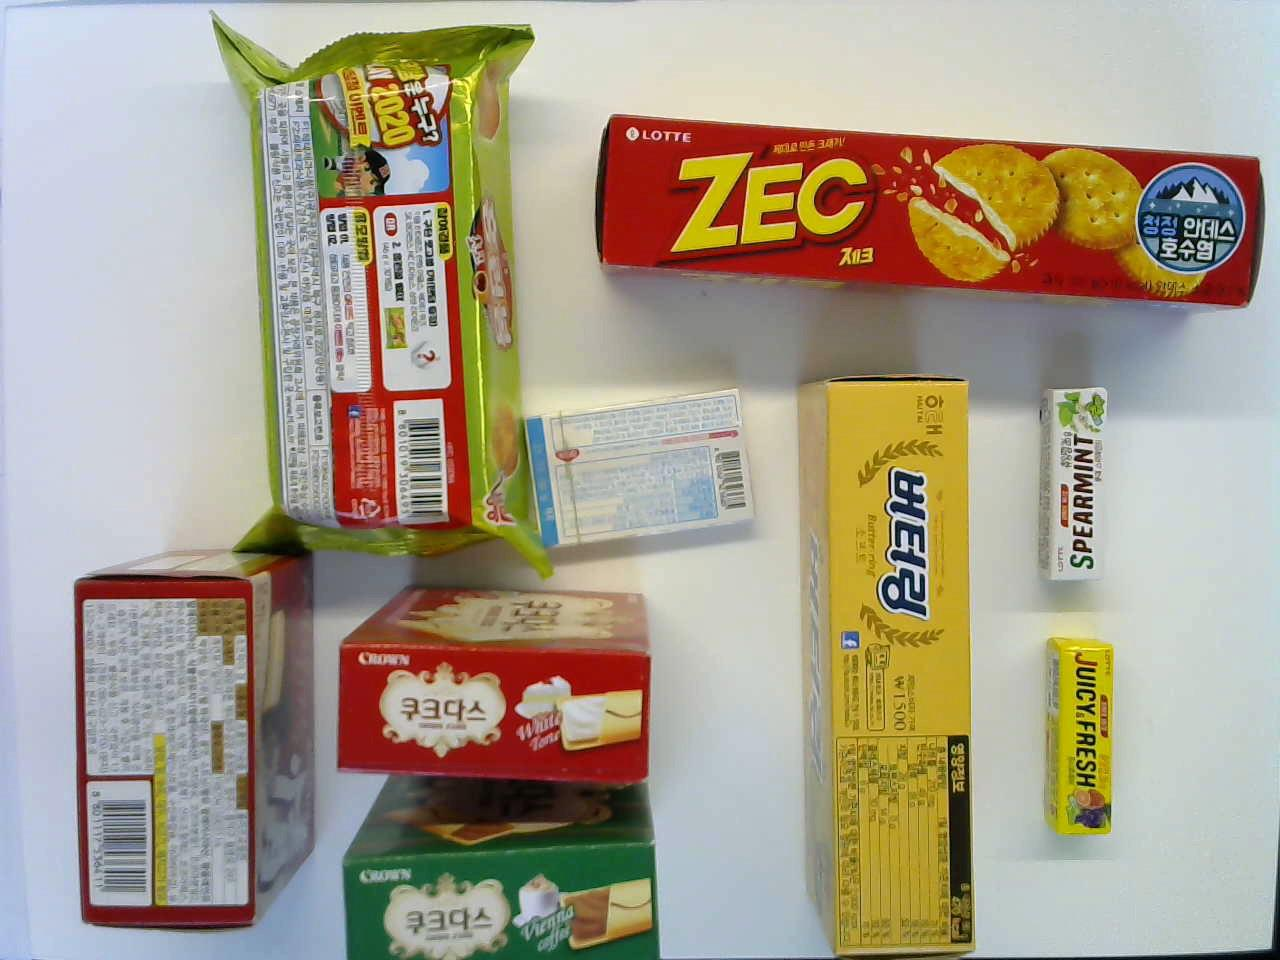ID_gum: (521, 384, 762, 558)
buttering: (791, 368, 976, 960)
chocopie: (76, 557, 329, 917)
couque_coffee: (344, 787, 657, 958)
couque_white: (338, 581, 643, 777)
homerunball: (248, 44, 514, 531)
juicyfresh: (1044, 635, 1124, 845)
spearmint: (1030, 380, 1121, 588)
zec: (597, 110, 1266, 308)
